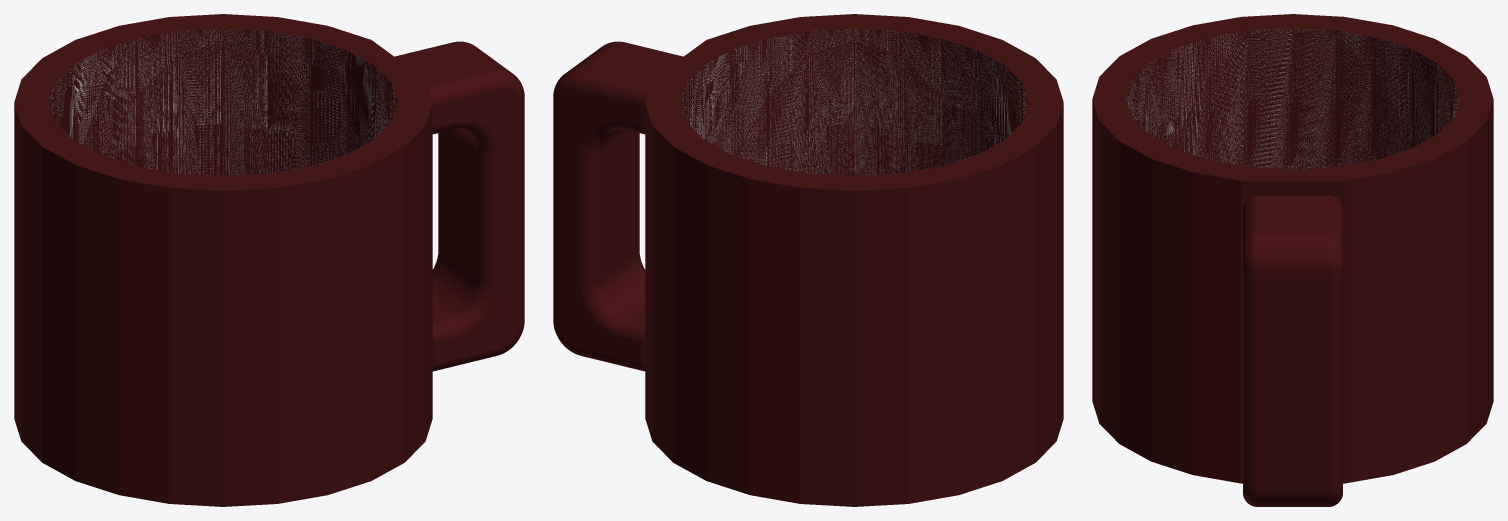
3 views of the same model, side by side, from view 1: azimuth 30°, elevation 25°; view 2: azimuth 150°, elevation 25°; view 3: azimuth 270°, elevation 25° (orthographic). The views are drawn at different scales.
Parts seen in each view (by area): view 1: mesh2_mesh2-geometry, mesh1_mesh1-geometry; view 2: mesh2_mesh2-geometry, mesh1_mesh1-geometry; view 3: mesh2_mesh2-geometry, mesh1_mesh1-geometry.
Boxes of the visible parts, left/top/right/bottom form: mesh2_mesh2-geometry: left=14, top=14, right=432, bottom=506; mesh1_mesh1-geometry: left=395, top=41, right=524, bottom=371; mesh2_mesh2-geometry: left=645, top=14, right=1063, bottom=506; mesh1_mesh1-geometry: left=553, top=41, right=682, bottom=371; mesh2_mesh2-geometry: left=1092, top=14, right=1493, bottom=483; mesh1_mesh1-geometry: left=1243, top=195, right=1342, bottom=506.
Size of the model in its own units: 0.6996 by 0.4574 by 0.5489.
